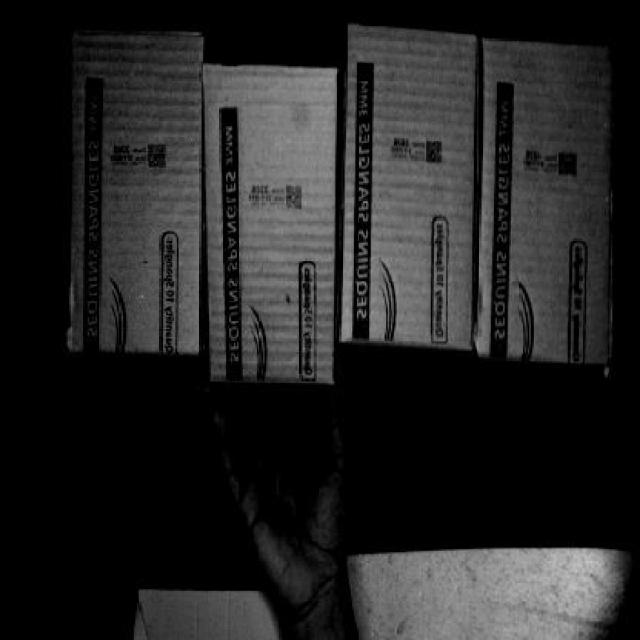cardboxes: (475, 45, 611, 357), (72, 32, 202, 356), (344, 40, 476, 343), (207, 65, 333, 382)
